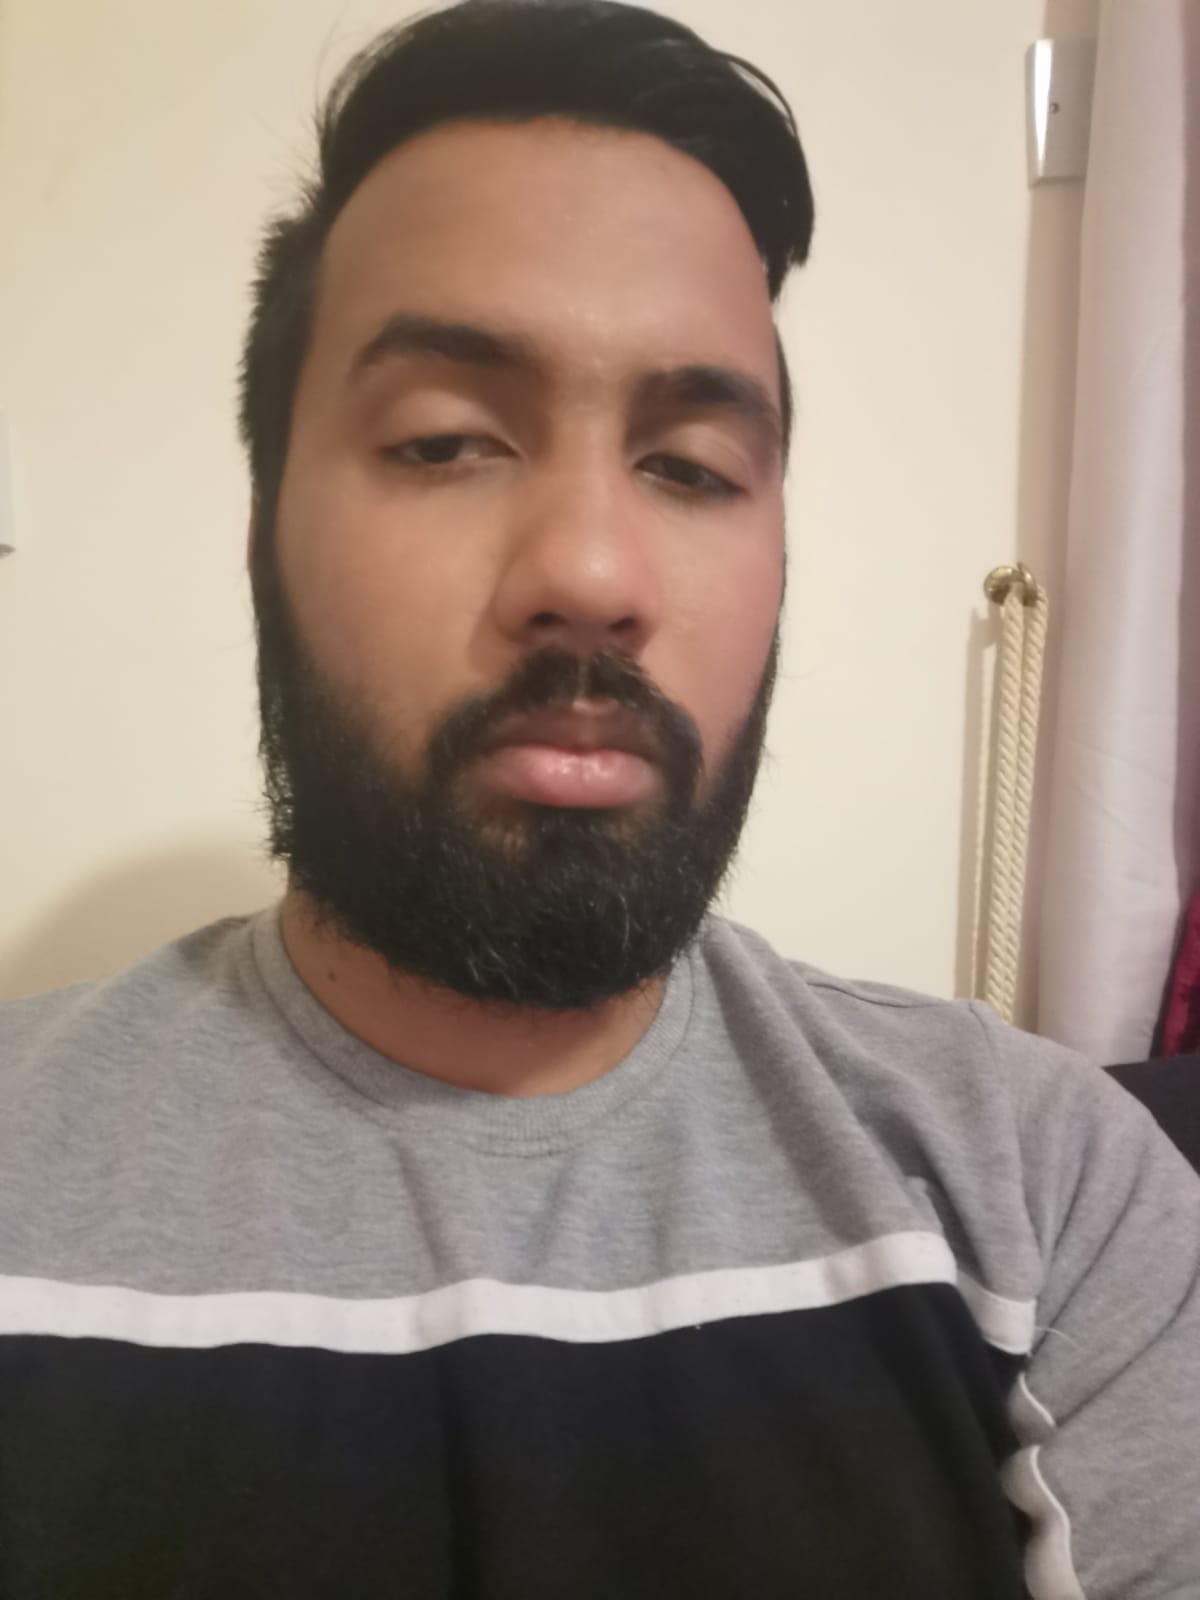Half Asleep: (332, 375, 813, 532)
